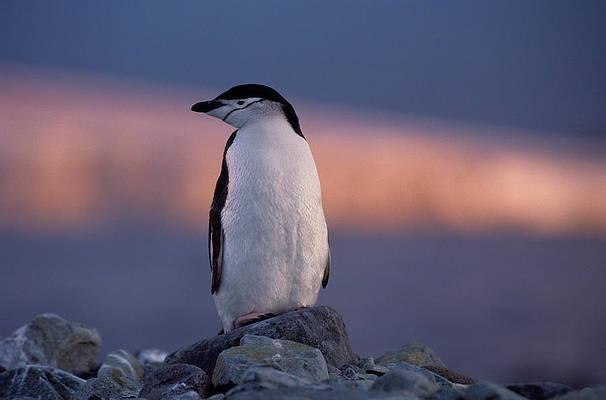chinstrap: (169, 65, 348, 356)
